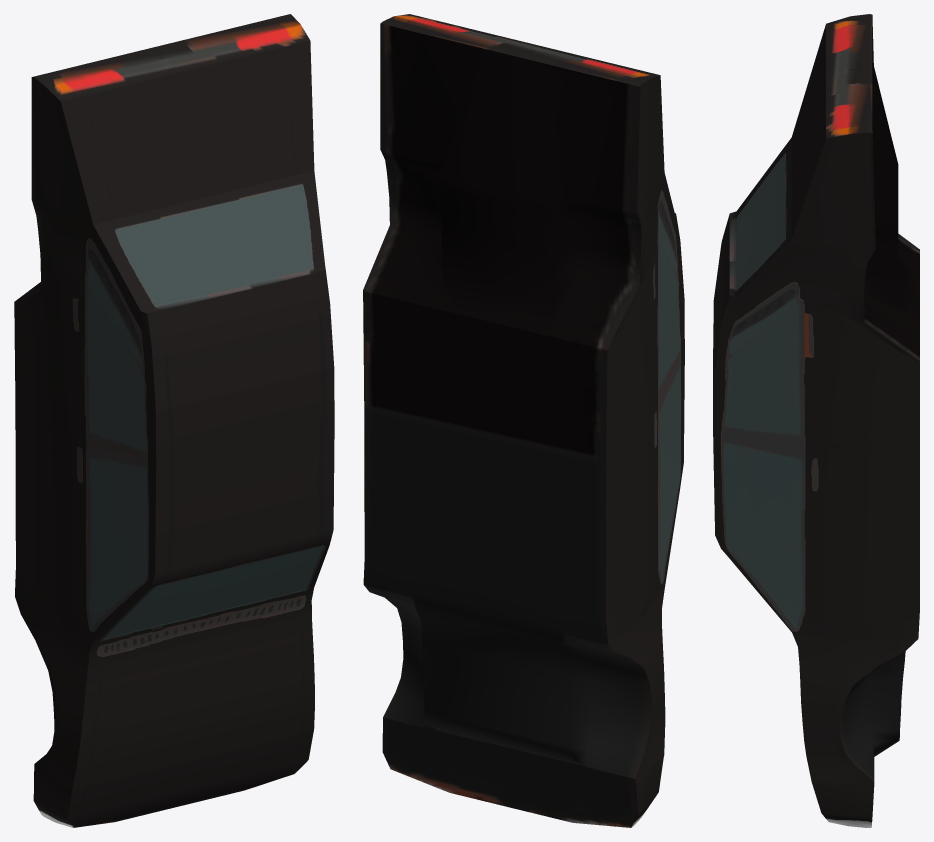
Rendered from kit-13.glb.
3 renders of one model, left to right at view 1: azimuth 30°, elevation 25°; view 2: azimuth 150°, elevation 25°; view 3: azimuth 270°, elevation 25°, orthographic. The views are drawn at different scales.
Visible parts, largest first — view 1: Object_25; view 2: Object_25; view 3: Object_25.
Boxes of the visible parts, x1=… form: Object_25: x1=14, y1=14, x2=334, y2=827; Object_25: x1=363, y1=14, x2=684, y2=827; Object_25: x1=713, y1=14, x2=919, y2=827.
Bounding box in the file's own units: 2.07 × 5.75 × 1.52.
1 material, 1 textured.
